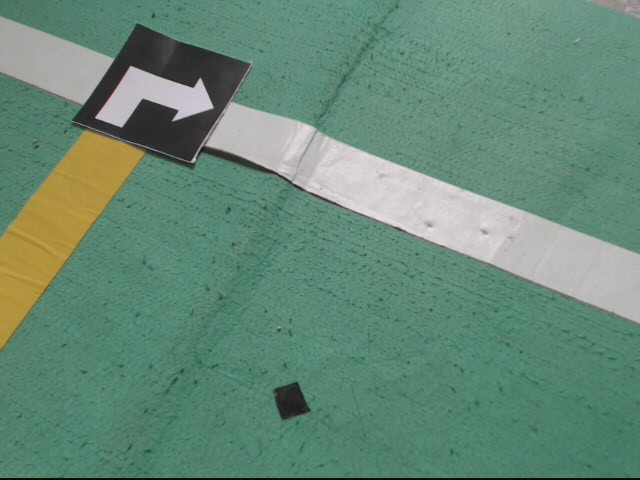right: (72, 24, 250, 165)
